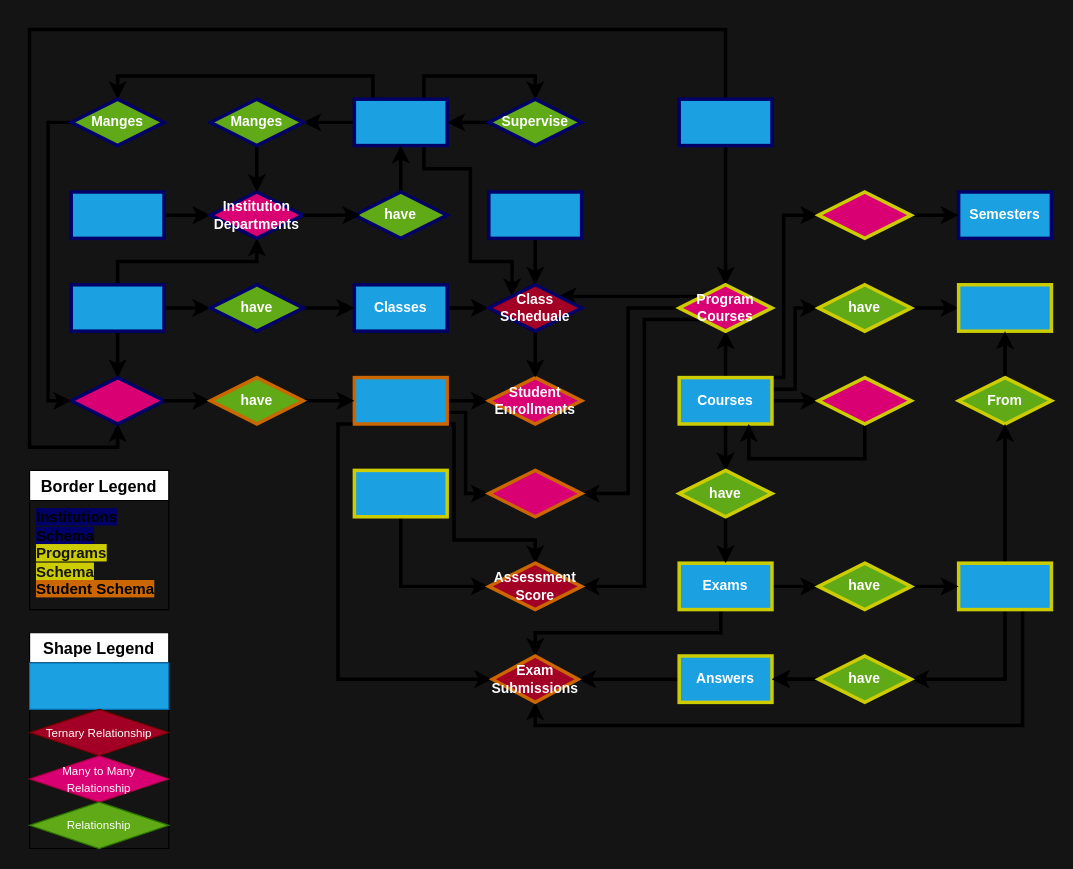
Image size: 1073x869. Some labels were removed from this diagram. The shapes that lost their labels are listed below. From the top down, each one's centre as x and y in pixels, then its label:
point 400,122: Instructors
point 725,122: Progrmas
point 117,215: Departments
point 535,215: TimeSlots
point 864,215: Course Semesters
point 117,307: Institutions
point 1004,307: Topics
point 117,400: Institution Programs
point 400,400: Students
point 864,400: prerequisite
point 400,493: Assessments
point 535,493: Course Results
point 1004,586: Questions
point 98,685: Table Entity
